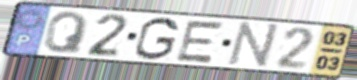2: (84, 12, 130, 58), (275, 26, 316, 71)
E: (172, 19, 227, 65)
G: (132, 16, 182, 62)
N: (225, 20, 283, 70)
Q: (41, 10, 91, 55)
